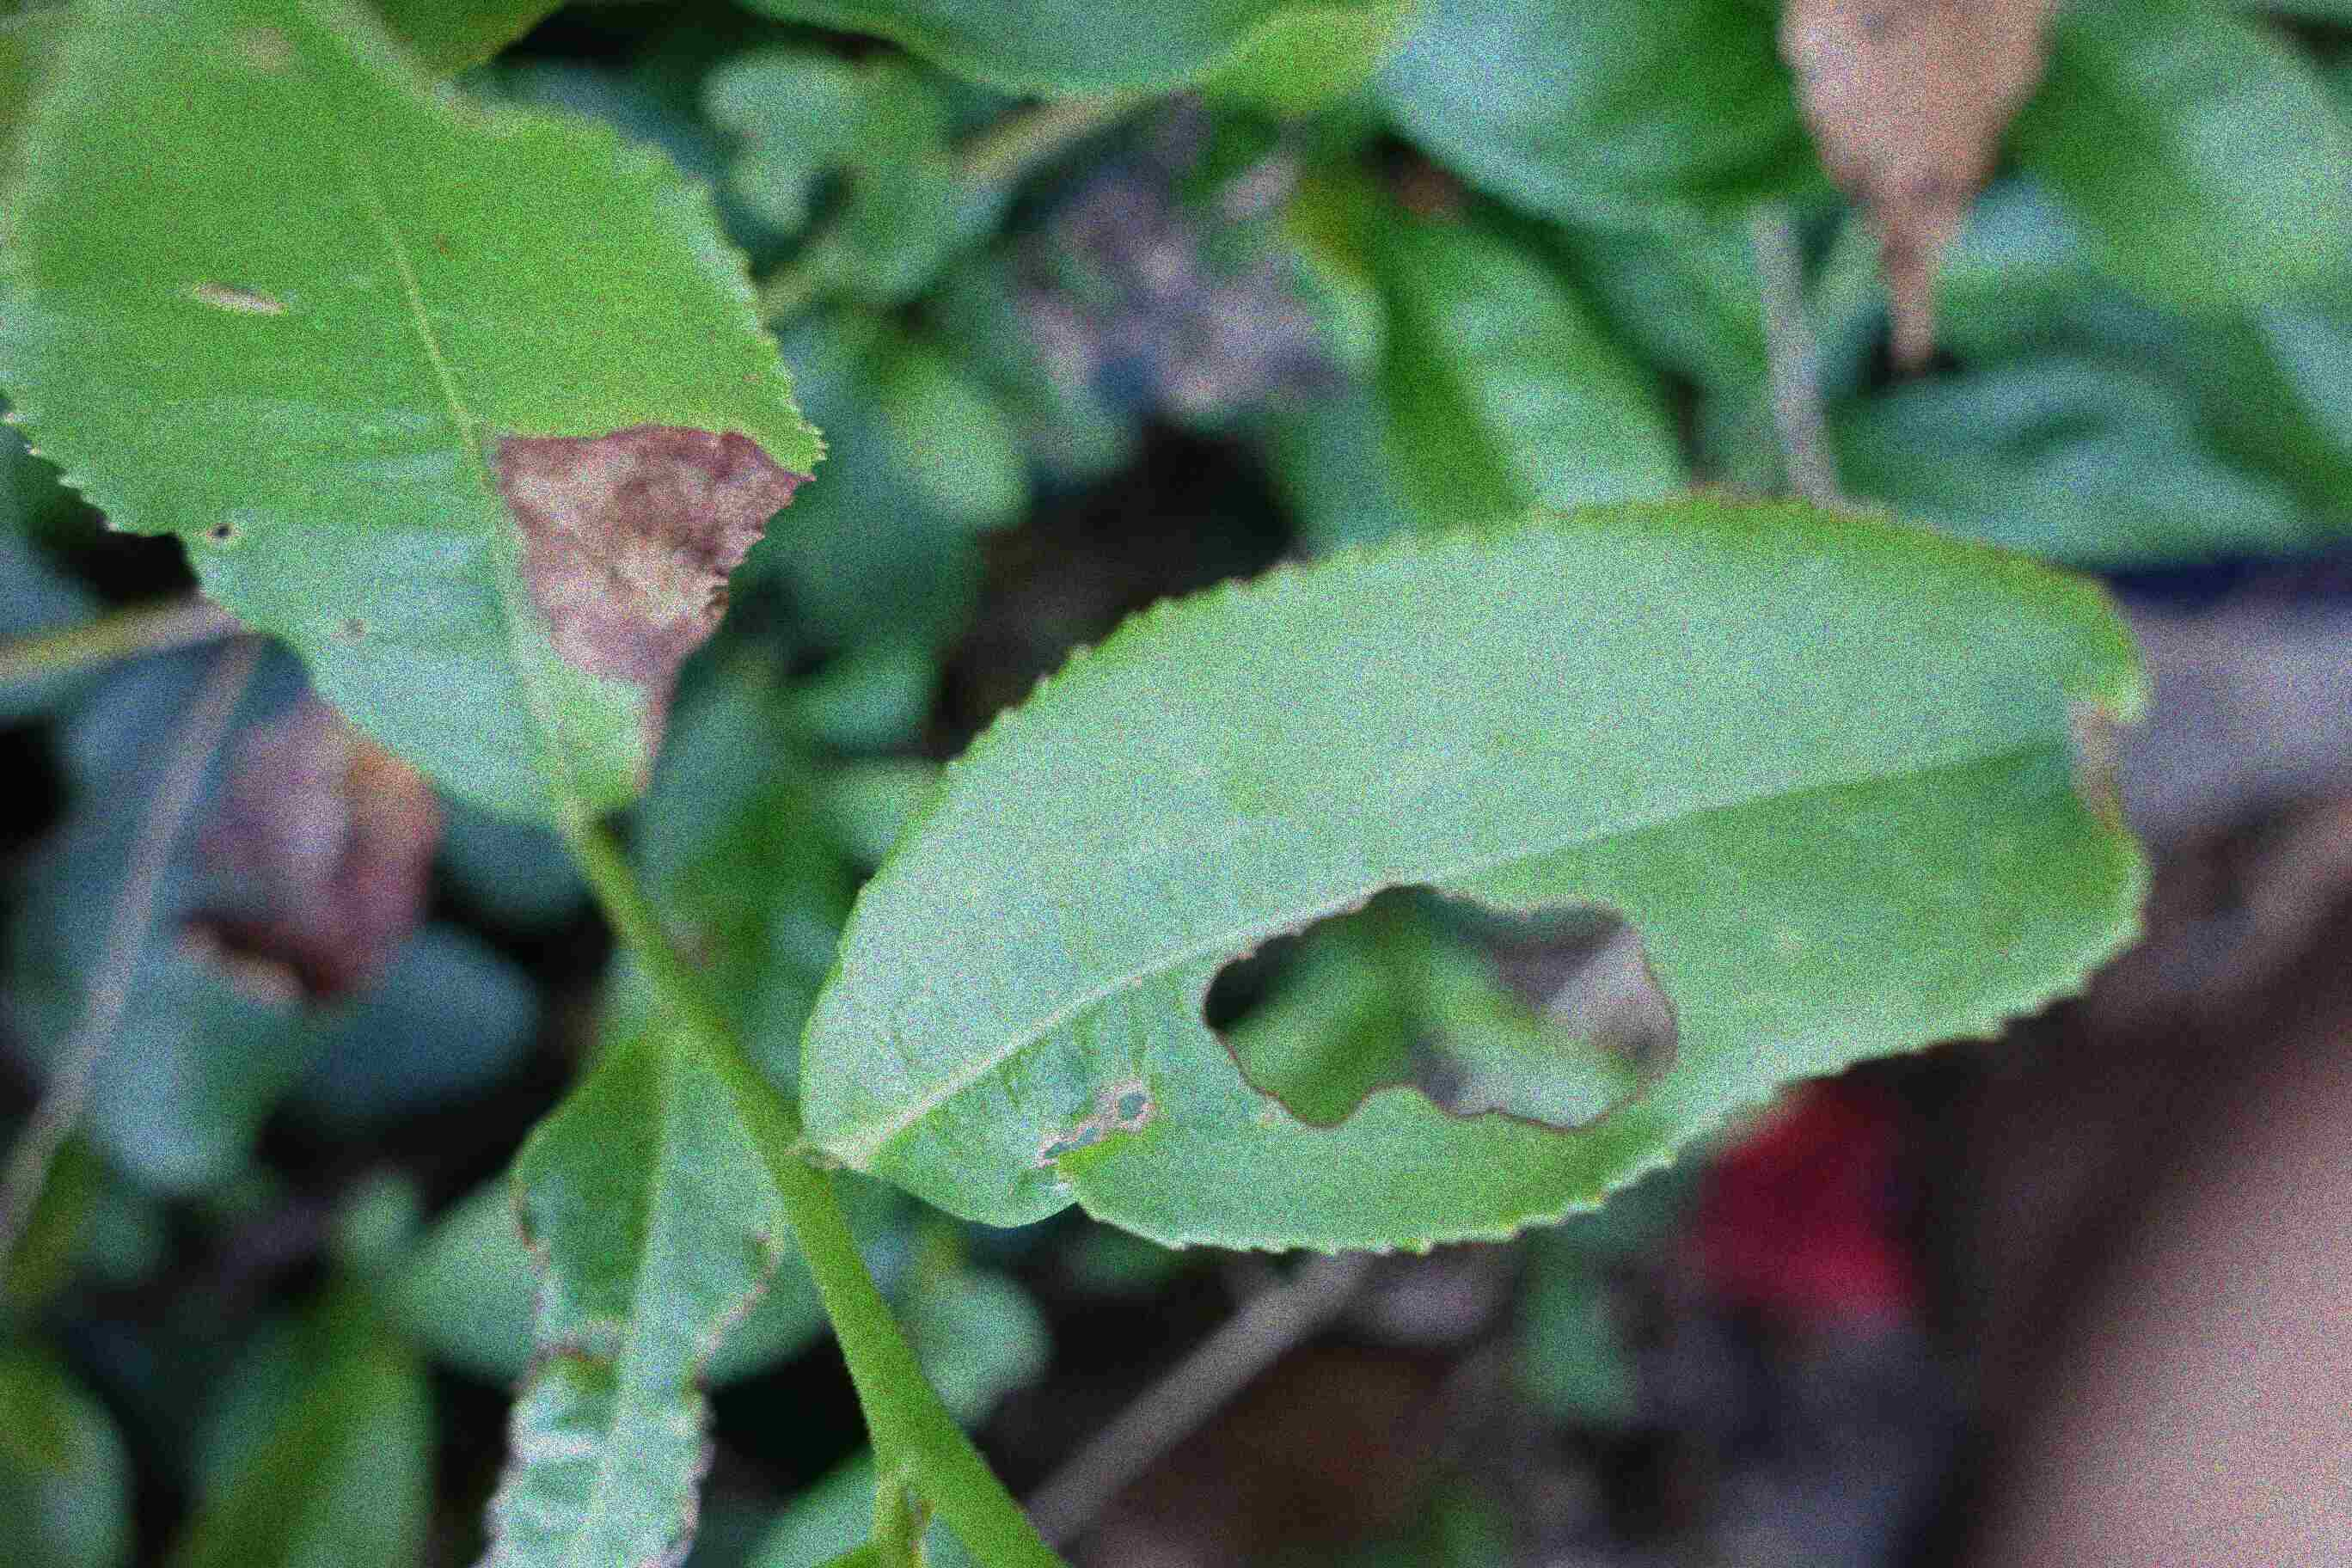chihuo_high: (796, 486, 2161, 1253), (472, 1024, 786, 1568)
tanju_high: (0, 3, 835, 829)
